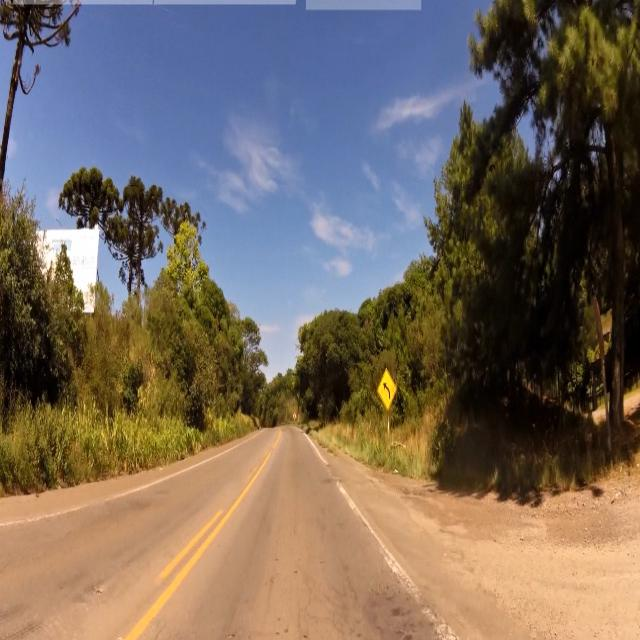A-2a: (376, 366, 396, 411)
